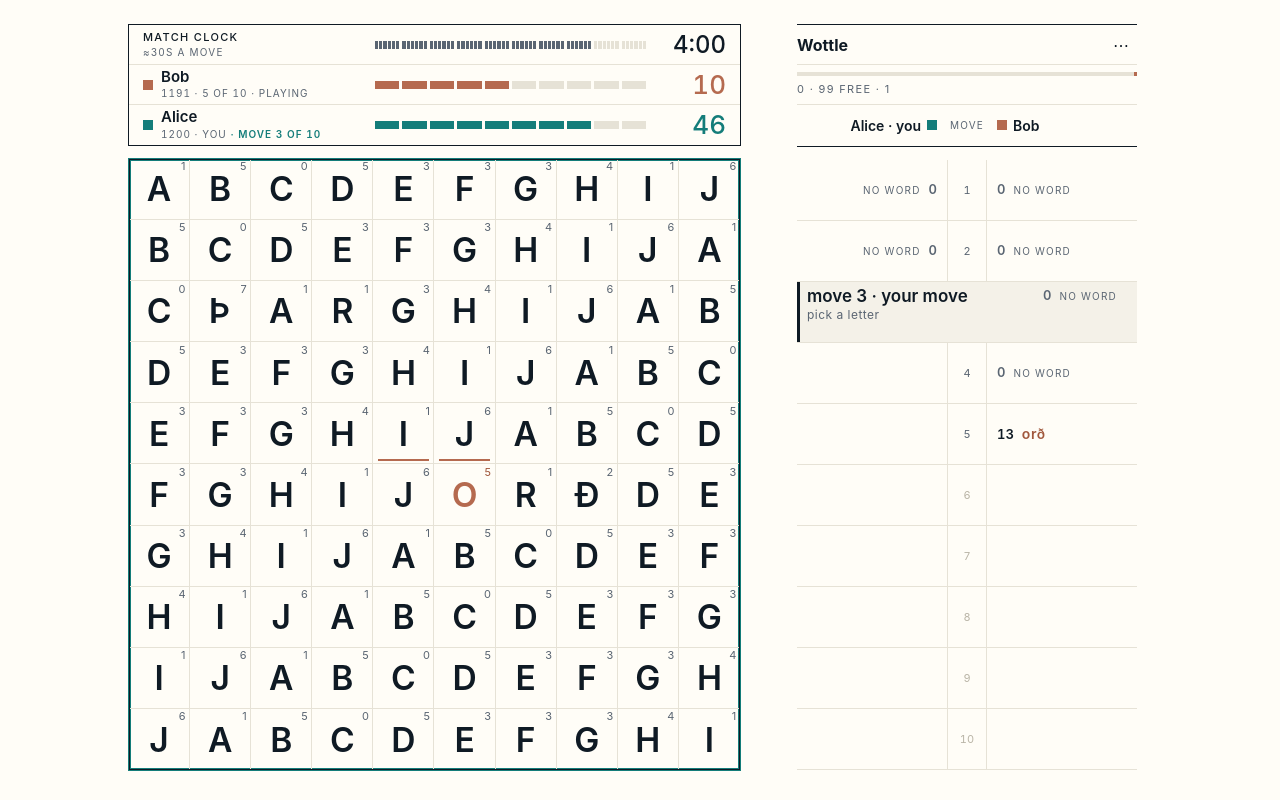
the live row's second line in a match (spec 068 FR-029, FR-030) › an illegal pick names the frozen word and its owner
Click the cell "O 5": (465, 495) [434,464,496,526]
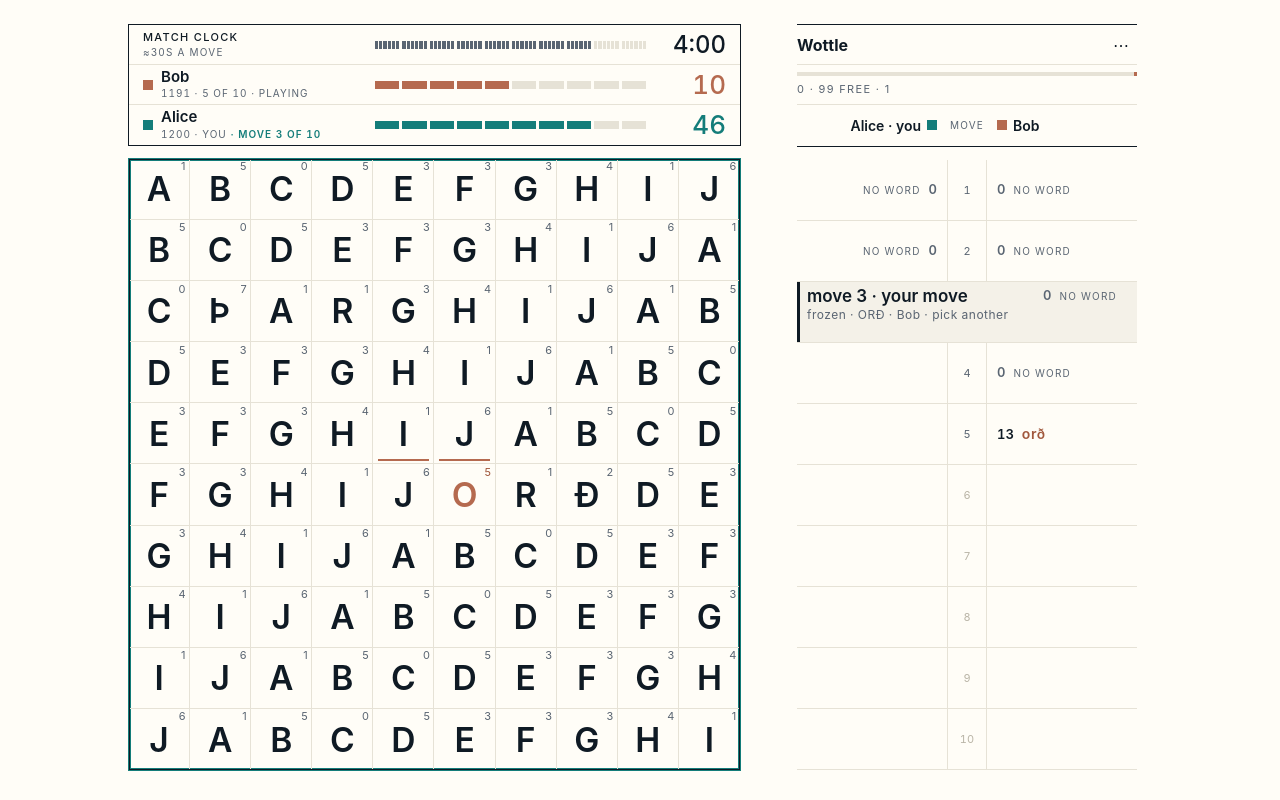
Expected: the element with test id "ledger-live-row" shows "frozen · ORÐ · Bob · pick another", [807,307,1008,322]
